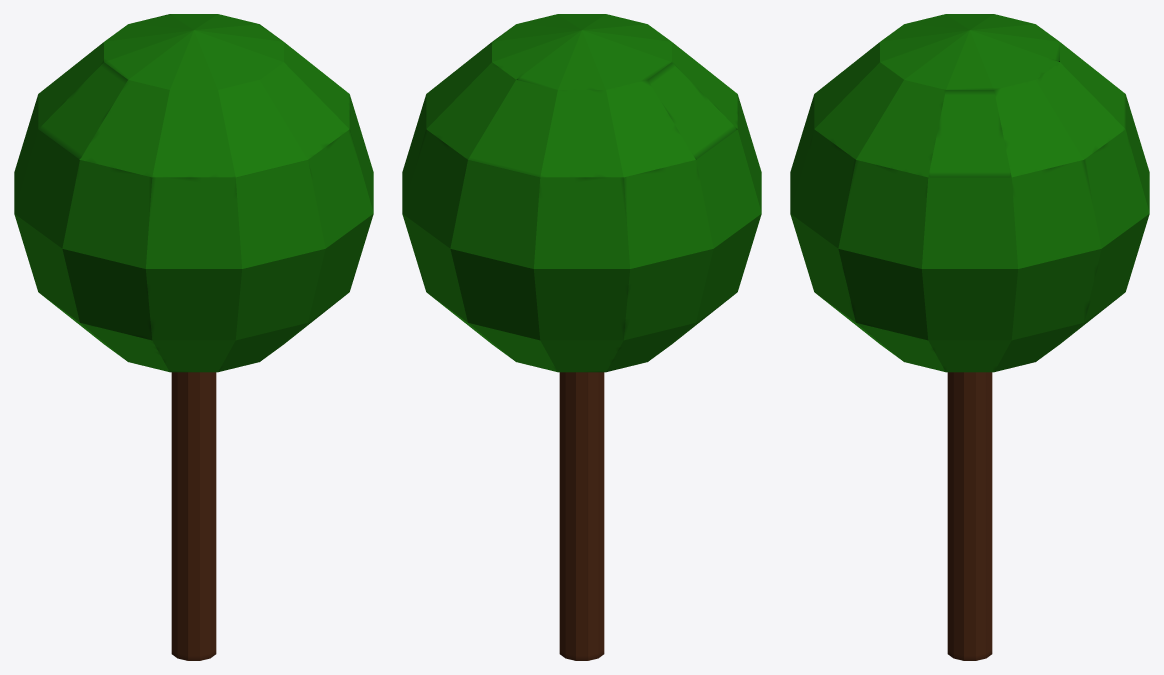
Rendered from Tree.fbx.
3 views of the same model, side by side, from view 1: azimuth 30°, elevation 25°; view 2: azimuth 150°, elevation 25°; view 3: azimuth 270°, elevation 25° (orthographic).
Parts seen in each view (by area): view 1: sphere, cylinder; view 2: sphere, cylinder; view 3: sphere, cylinder.
Boxes of the visible parts, x1=… form: sphere: x1=14, y1=14, x2=373, y2=372; cylinder: x1=171, y1=372, x2=216, y2=660; sphere: x1=402, y1=14, x2=761, y2=372; cylinder: x1=559, y1=372, x2=604, y2=660; sphere: x1=790, y1=14, x2=1149, y2=372; cylinder: x1=947, y1=372, x2=992, y2=660.
Bounding box in the file's own units: 200 × 381 × 200.
1 material, 1 textured.
